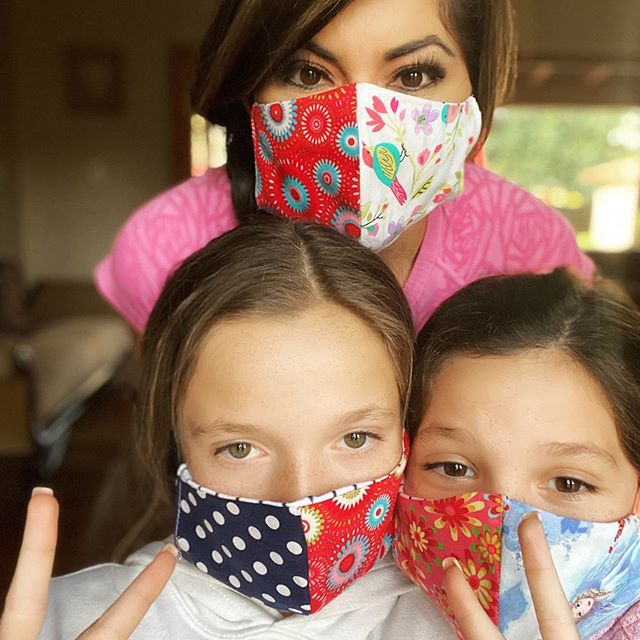homemade: (239, 88, 482, 245), (400, 478, 638, 637), (179, 467, 393, 616)
